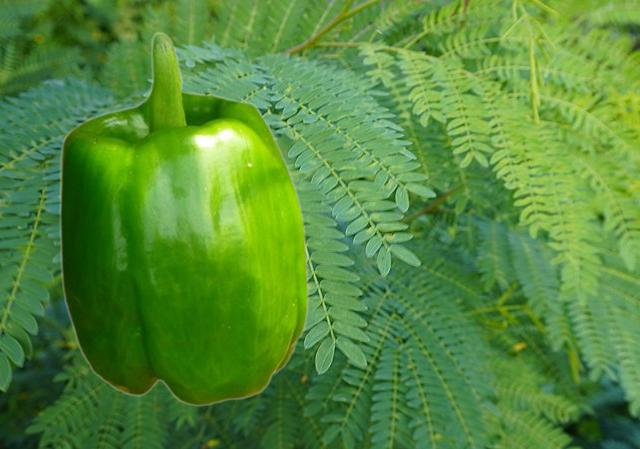bell_pepper: (58, 31, 308, 406)
